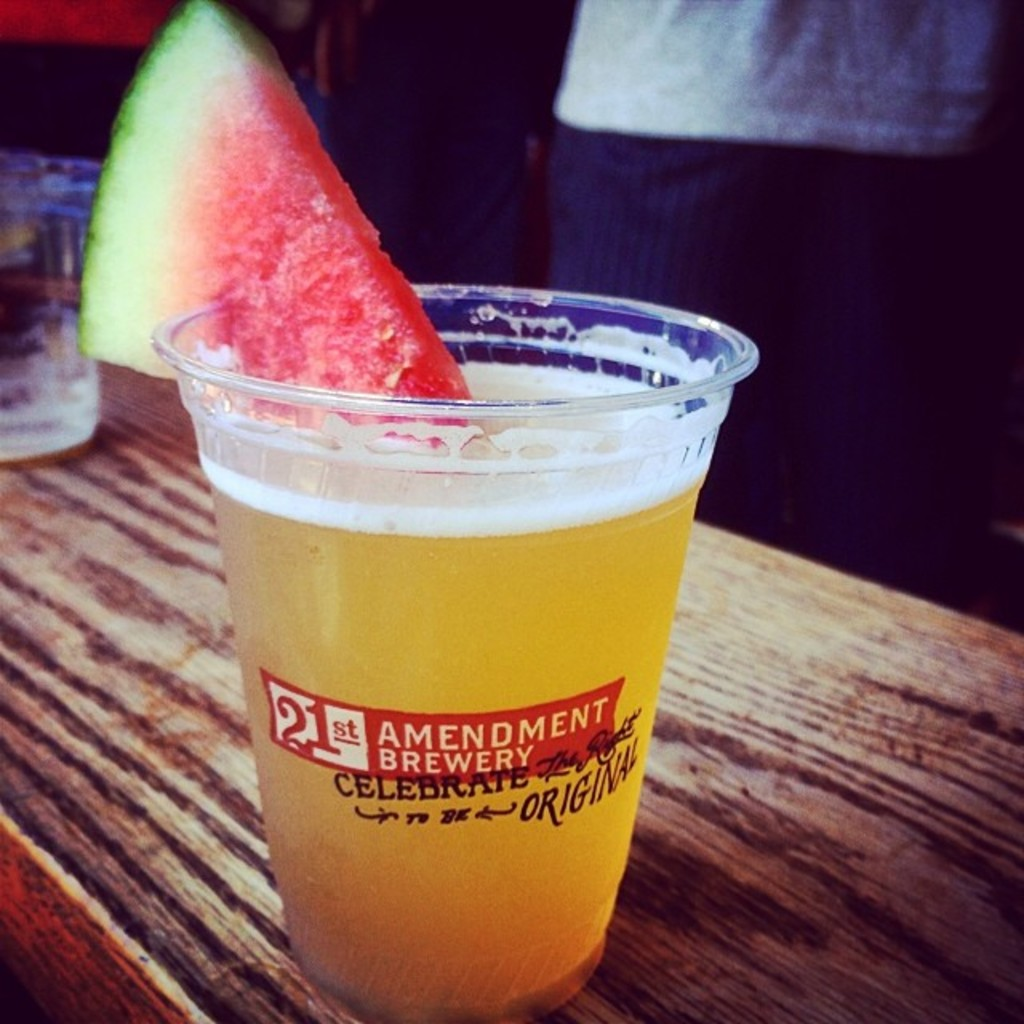Beer: (171, 270, 761, 1022)
